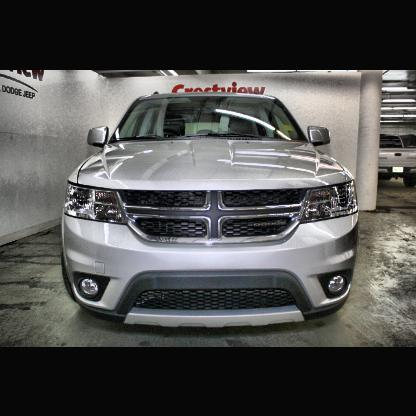Dodge Journey SUV 2012: (63, 93, 360, 323)
